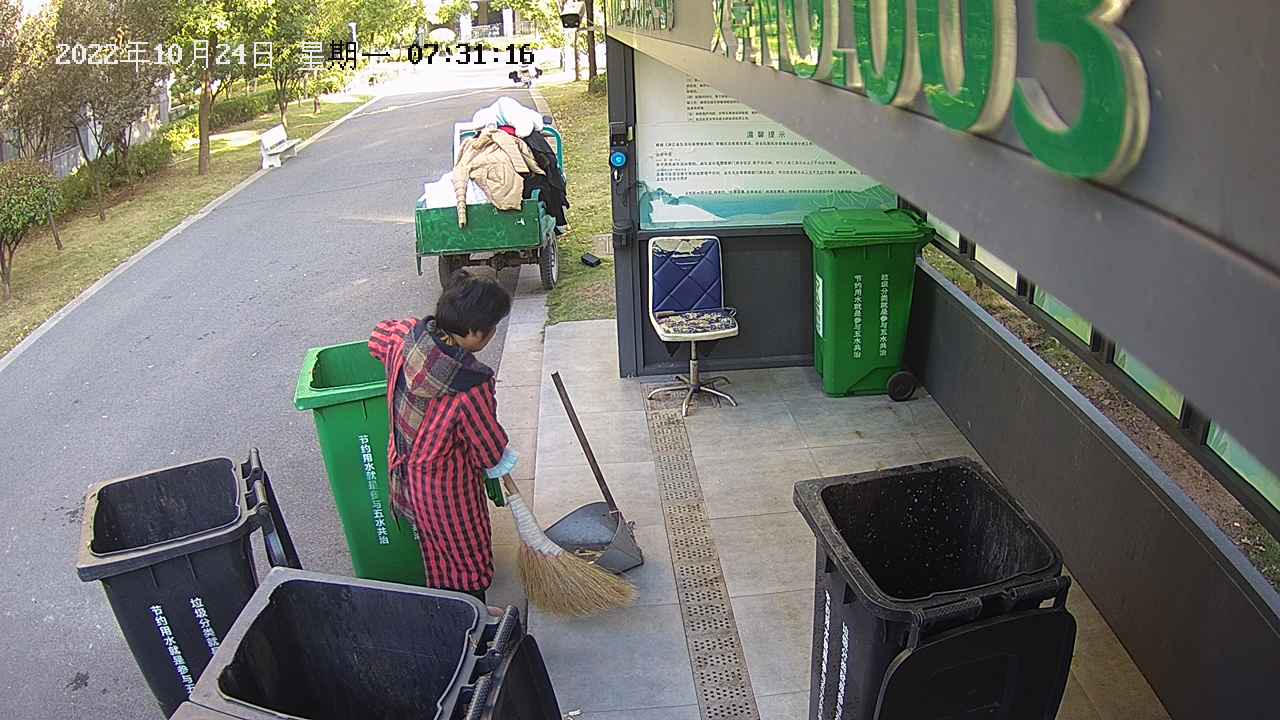person: (364, 266, 522, 622)
